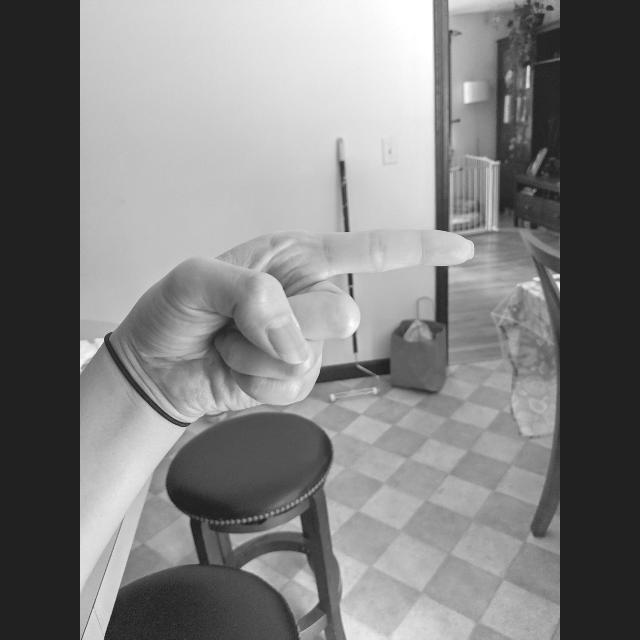G: (135, 223, 481, 423)
